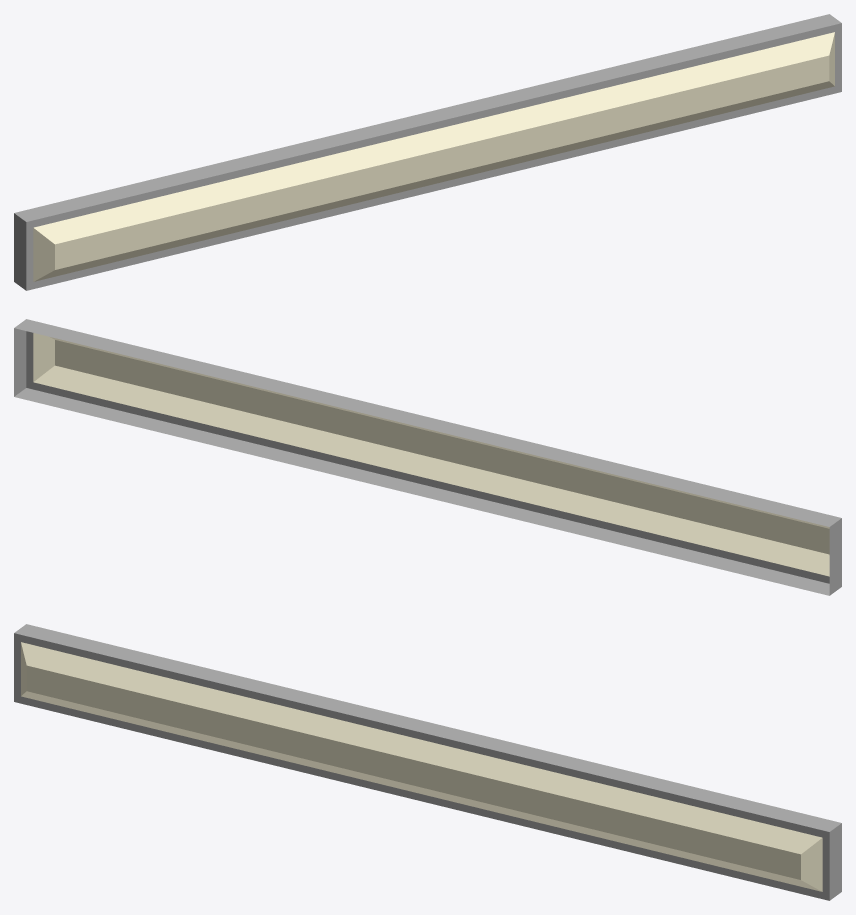
The model's file is lamp.fbx.
3 renders of one model, top to bottom at view 1: azimuth 30°, elevation 25°; view 2: azimuth 150°, elevation 25°; view 3: azimuth 330°, elevation 25°, orthographic.
Parts seen in each view (by area): view 1: Cube_20; view 2: Cube_20; view 3: Cube_20.
Boxes of the visible parts, x1,y1,x2,y2 form: Cube_20: (14, 14, 841, 290); Cube_20: (14, 319, 841, 595); Cube_20: (14, 624, 841, 900).
Bounding box in the file's own units: 94.32 × 7.61 × 4.07.
